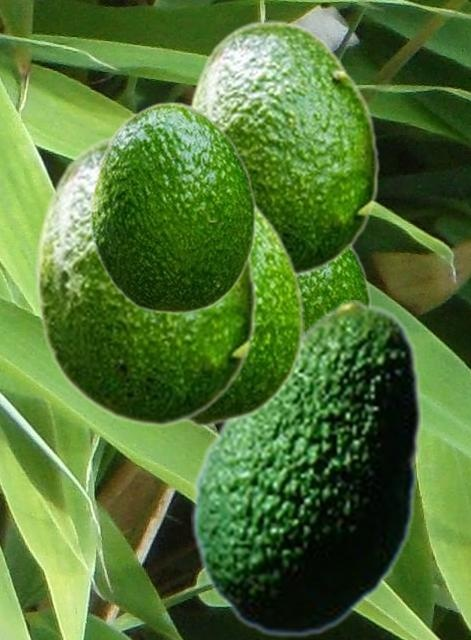avocado: (191, 300, 421, 637), (33, 134, 257, 426), (186, 20, 379, 275), (89, 101, 256, 313), (180, 203, 303, 426), (299, 245, 371, 327)
